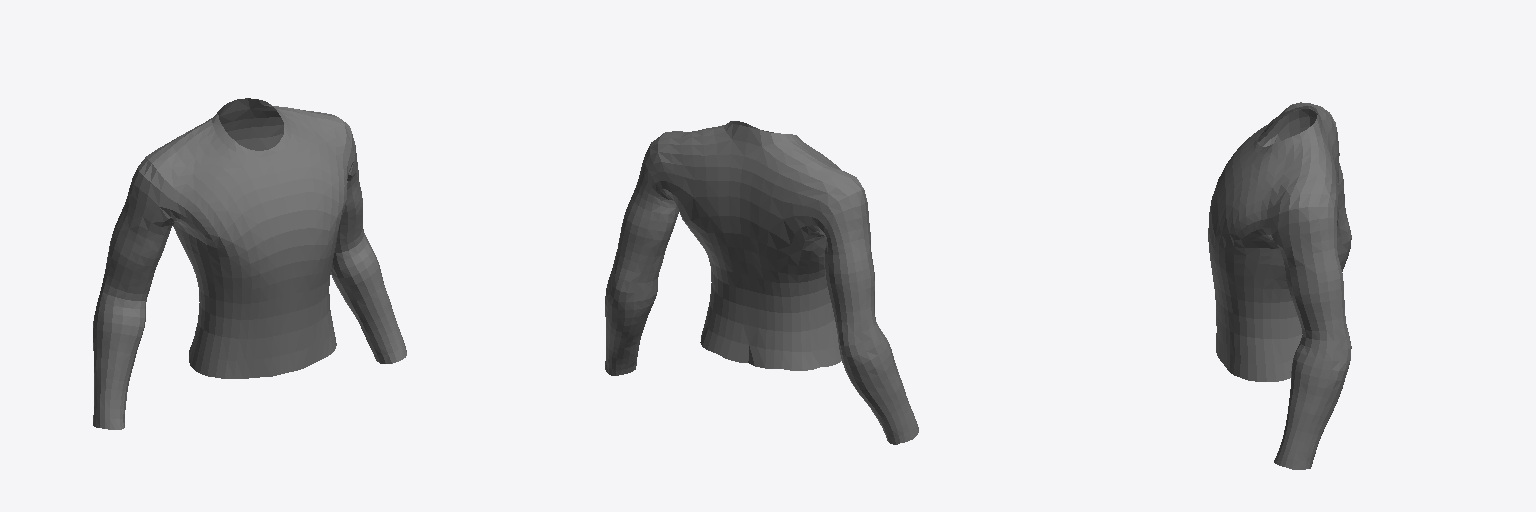
The model's file is LowPoly_Guarda_Camisa.obj.
3 views of the same model, side by side, from view 1: azimuth 30°, elevation 25°; view 2: azimuth 150°, elevation 25°; view 3: azimuth 270°, elevation 25° (orthographic).
Visible parts, largest first — view 1: LowPoly_Guarda_Camisa; view 2: LowPoly_Guarda_Camisa; view 3: LowPoly_Guarda_Camisa.
Boxes of the visible parts, box(x1,y1,x2,y2) form: LowPoly_Guarda_Camisa: box(93, 98, 406, 429); LowPoly_Guarda_Camisa: box(605, 121, 918, 444); LowPoly_Guarda_Camisa: box(1208, 102, 1351, 469).
Bounding box in the file's own units: 63.38 × 55.8 × 25.41.